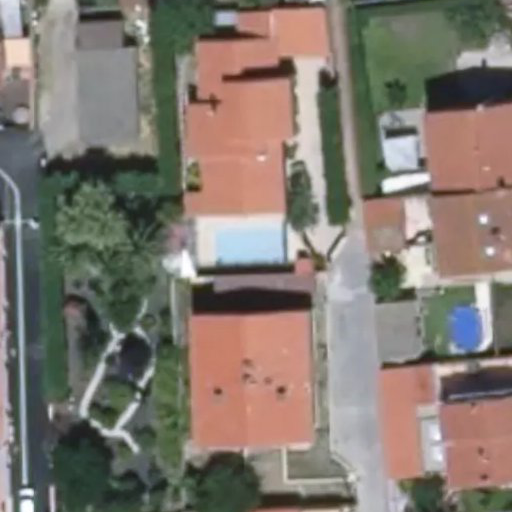pool: (219, 226, 292, 257)
